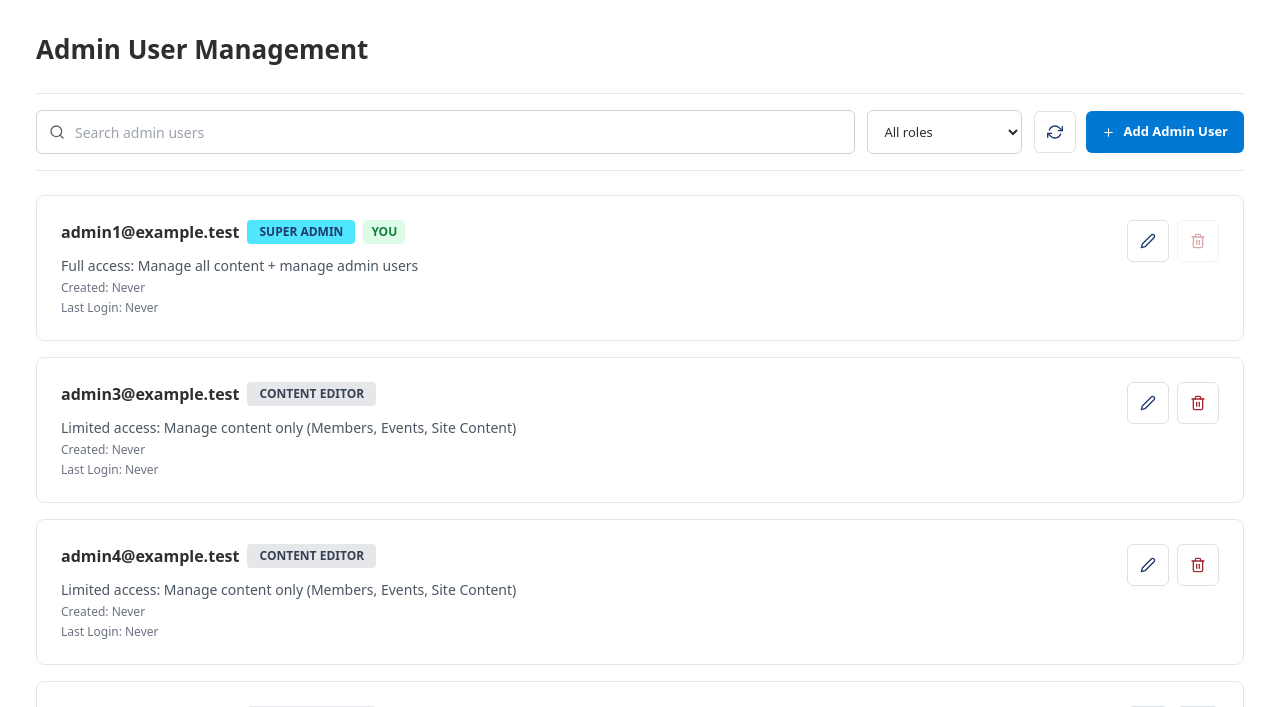
Test case: prevents deletion and demotion of the last Super Admin
Expected: the button named "Delete admin1@example.test" is disabled, top-left (1177, 220), bottom-right (1219, 262)
Step 1. Click the button named "Edit admin1@example.test" → [1148, 241], box top-left (1127, 220), bottom-right (1169, 262)
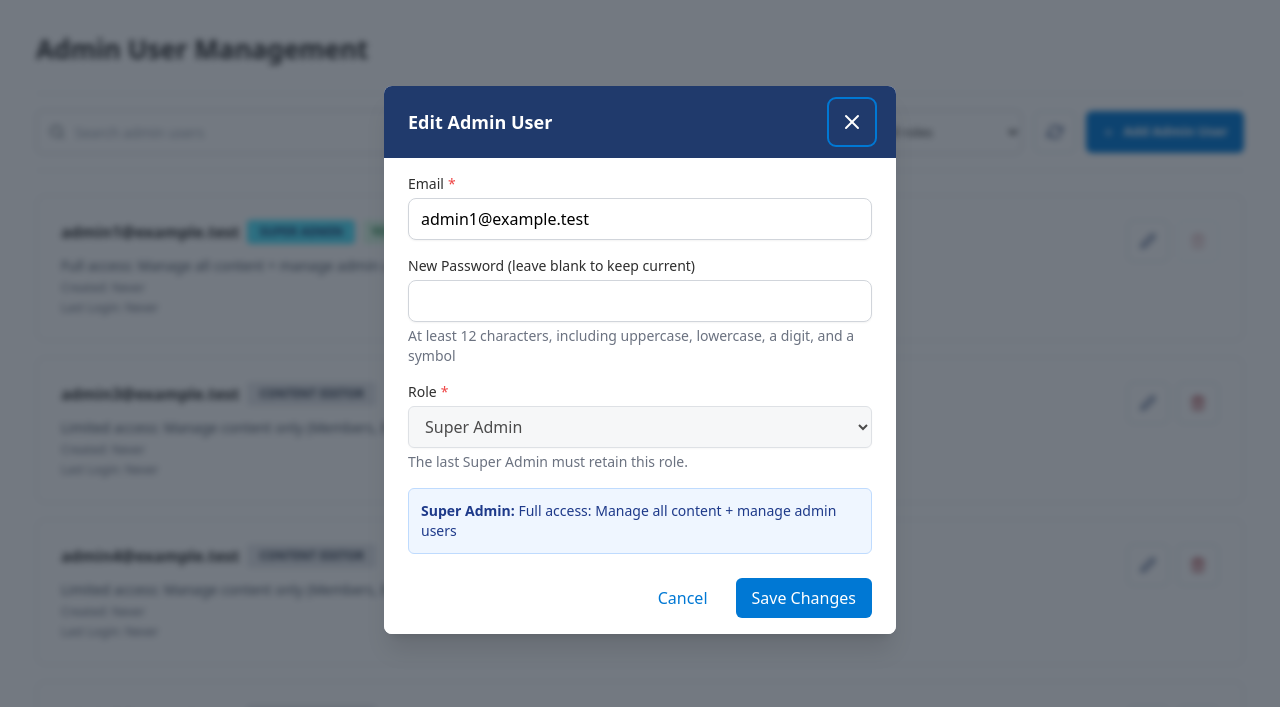
Expected: the dropdown labelled "Role*" is disabled
Step 2. Select "Content Editor" in the dropdown labelled "Role*" → [640, 427], box top-left (408, 406), bottom-right (872, 448)
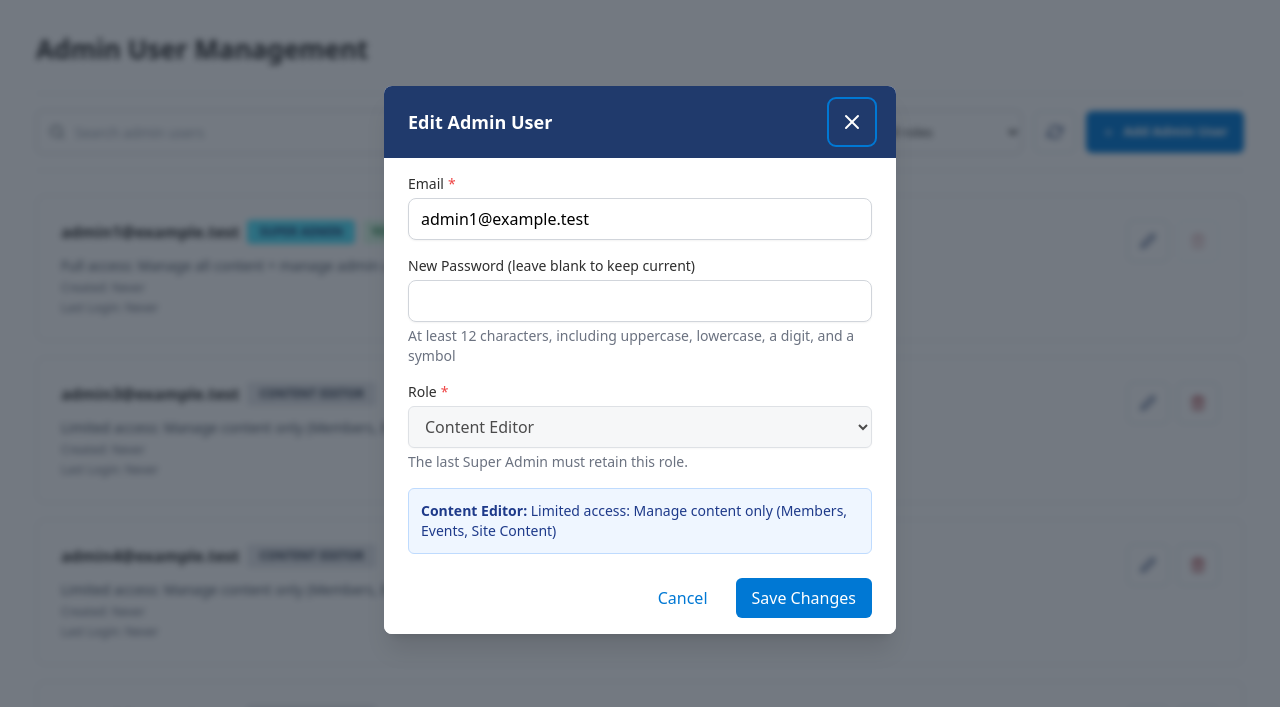
Step 3. Submit the form, box top-left (408, 174), bottom-right (872, 618)
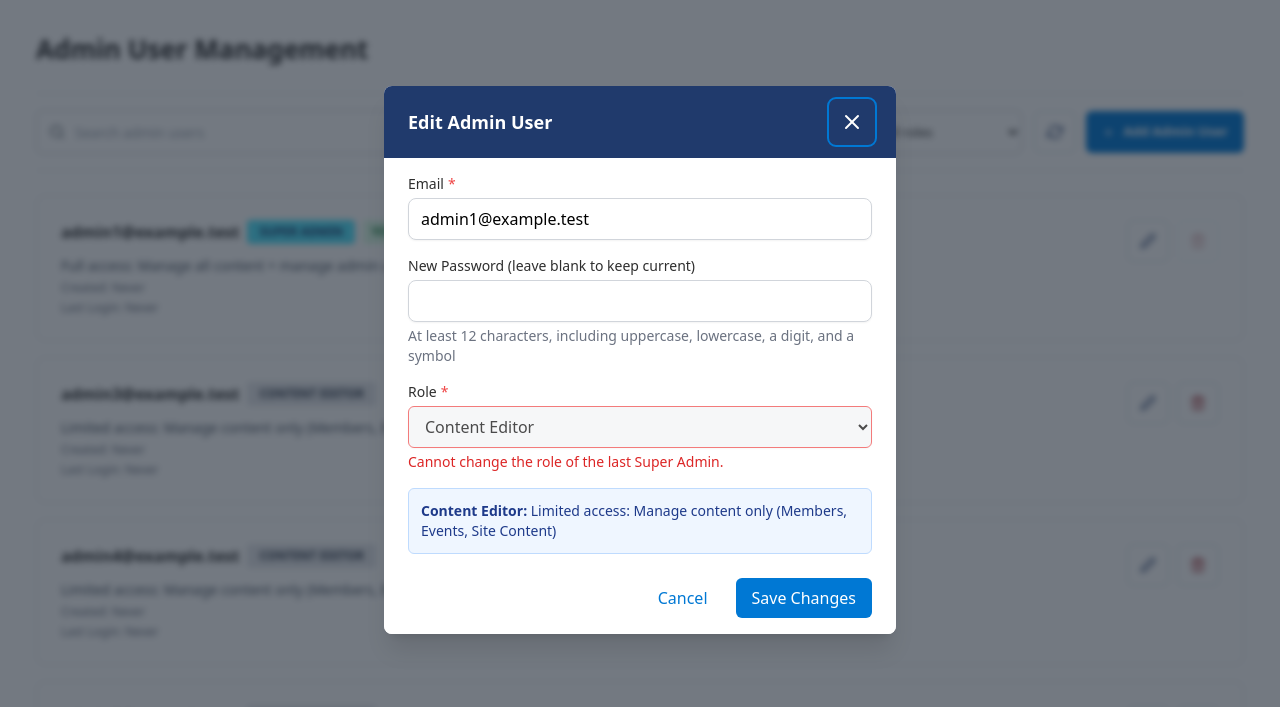
Expected: the text "Cannot change the role of the last Super Admin." is shown, top-left (408, 452), bottom-right (724, 471)
